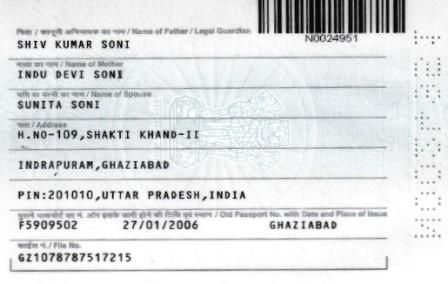File_no: (17, 252, 131, 263)
address: (13, 127, 377, 208)
father_name: (14, 37, 139, 52)
mother_name: (13, 68, 129, 81)
old_passport_details: (14, 213, 354, 236)
passport_no: (305, 32, 355, 43)
spouse_name: (14, 97, 106, 113)
